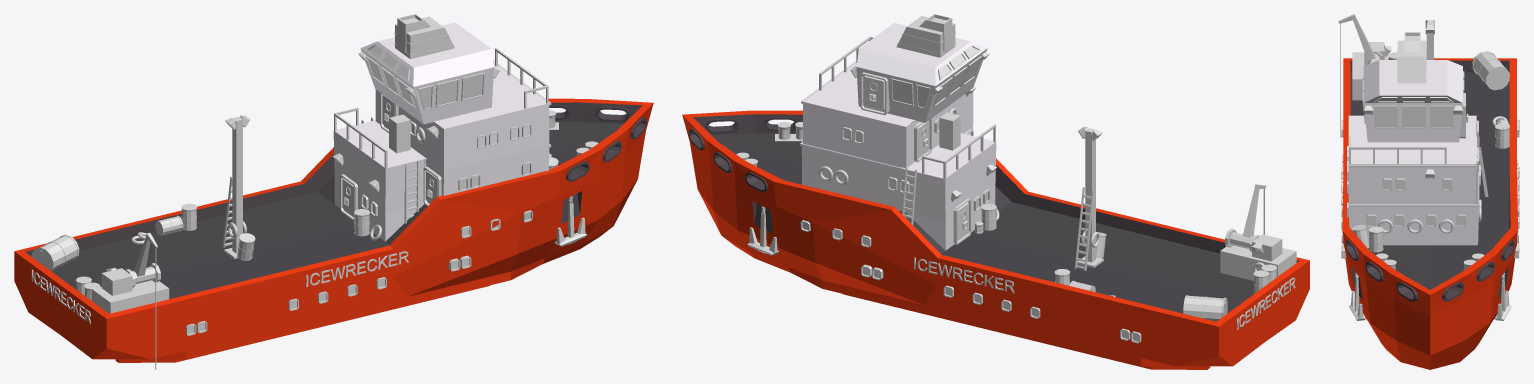
Rendered from Icebreaker 1.fbx.
The picture shows the model from 3 angles, left to right: view 1: azimuth 30°, elevation 25°; view 2: azimuth 150°, elevation 25°; view 3: azimuth 270°, elevation 25°; orthographic projection. The views are drawn at different scales.
Visible parts, largest first — view 1: shipBody, Cube.070, Cube.112, Cube.062, Cylinder.007, playerReference, Text.002, Cube.006, Cube.057, Cube.001, Text, Cube.007 (+1 smaller); view 2: shipBody, Cube.070, Cube.112, Cube.062, Cylinder.007, playerReference, Text.001, Cube.111, door.003, Cube.006, Cube.061, Cube.057 (+2 smaller); view 3: shipBody, Cube.112, Cylinder.007, Cube.070, Cube.057, Cube.002, Cube.003, Cube.004, Cube.060, Cube.059, Cube.001, Cube.074 (+6 smaller).
Boxes of the visible parts, x1=… form: shipBody: x1=14, y1=22, x2=653, y2=362; Cube.070: x1=91, y1=268, x2=169, y2=313; Cube.112: x1=394, y1=14, x2=454, y2=59; Cube.062: x1=224, y1=116, x2=242, y2=258; Cylinder.007: x1=31, y1=234, x2=79, y2=271; playerReference: x1=389, y1=114, x2=410, y2=153; Text.002: x1=306, y1=251, x2=408, y2=286; Cube.006: x1=334, y1=107, x2=387, y2=168; Cube.057: x1=554, y1=203, x2=587, y2=246; Cube.001: x1=495, y1=48, x2=548, y2=108; Text: x1=31, y1=269, x2=91, y2=324; Cube.007: x1=435, y1=79, x2=459, y2=107; shipBody: x1=682, y1=23, x2=1309, y2=369; Cube.070: x1=1220, y1=234, x2=1296, y2=280; Cube.112: x1=896, y1=14, x2=955, y2=57; Cube.062: x1=1077, y1=128, x2=1103, y2=267; Cylinder.007: x1=1183, y1=295, x2=1227, y2=321; playerReference: x1=939, y1=112, x2=960, y2=150; Text.001: x1=914, y1=257, x2=1014, y2=293; Cube.111: x1=1074, y1=187, x2=1094, y2=270; door.003: x1=863, y1=75, x2=884, y2=112; Cube.006: x1=922, y1=124, x2=995, y2=178; Cube.061: x1=736, y1=122, x2=802, y2=166; Cube.057: x1=747, y1=213, x2=779, y2=255; shipBody: x1=1342, y1=58, x2=1517, y2=369; Cube.112: x1=1397, y1=32, x2=1426, y2=83; Cylinder.007: x1=1472, y1=51, x2=1509, y2=90; Cube.070: x1=1352, y1=42, x2=1388, y2=100; Cube.057: x1=1348, y1=279, x2=1511, y2=320; Cube.002: x1=1374, y1=105, x2=1397, y2=128; Cube.003: x1=1402, y1=105, x2=1425, y2=128; Cube.004: x1=1430, y1=105, x2=1453, y2=128; Cube.060: x1=1349, y1=204, x2=1478, y2=207; Cube.059: x1=1349, y1=164, x2=1475, y2=167; Cube.001: x1=1349, y1=137, x2=1446, y2=163; Cube.074: x1=1338, y1=14, x2=1375, y2=61.
Size of the model in its own units: 16206 by 7304 by 4552.
13 materials, 1 textured.
